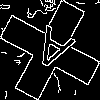A: (25, 25, 76, 81)
